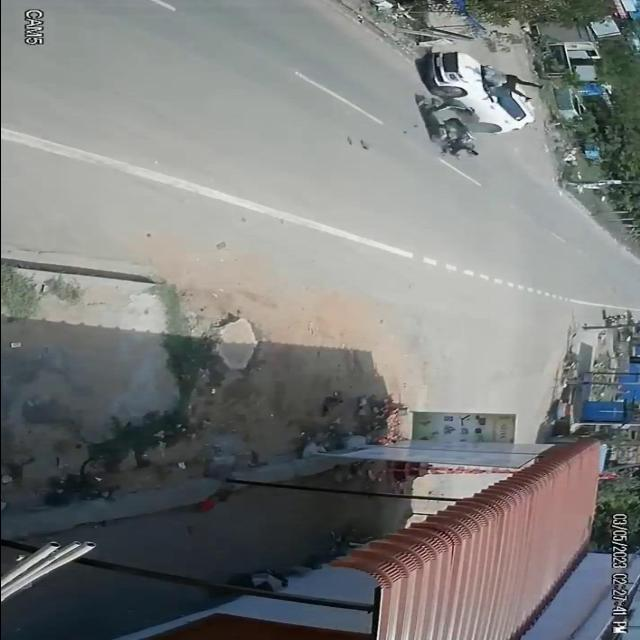accident: (404, 50, 556, 158)
